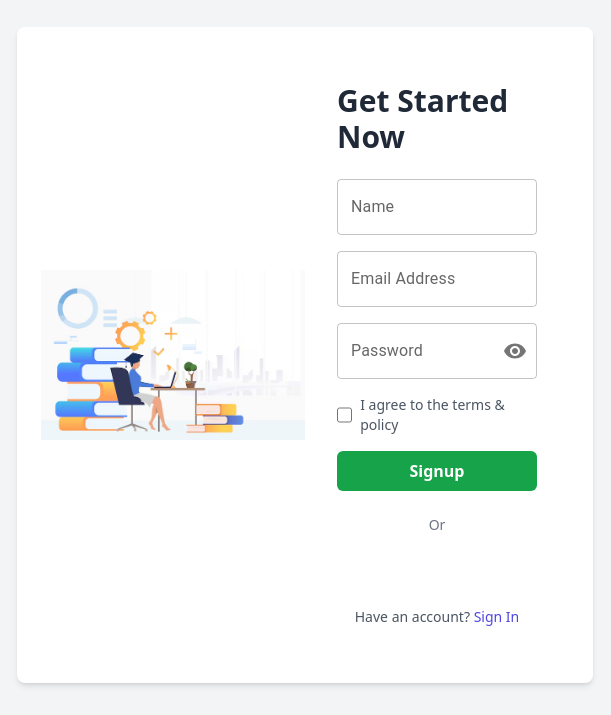
Test: SignupForm Component › Form Validation › shows validation error for empty name
Type "test@example.com" into the field labelled "Email Address" at coordinates (437, 279), box [337,251,537,307]
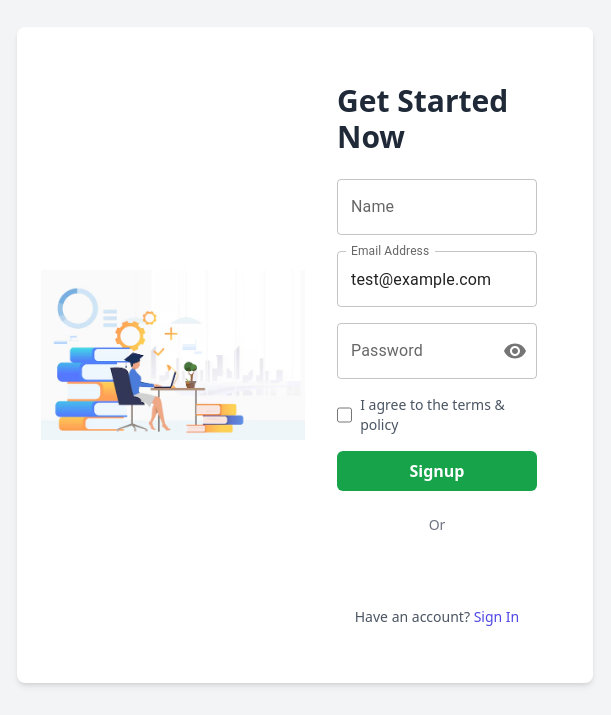
Type "password123" into the password field labelled "Password" at coordinates (412, 351), box [337,323,487,379]
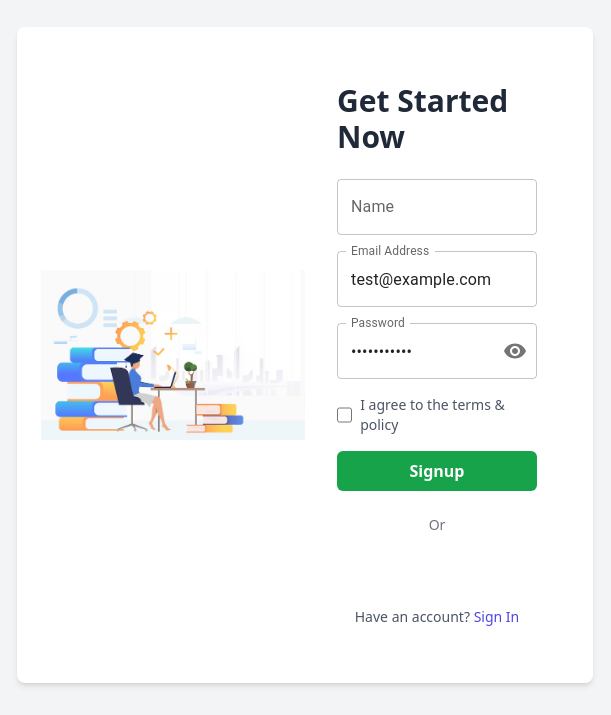
Click the checkbox at coordinates (345, 415), box [337,407,352,423]
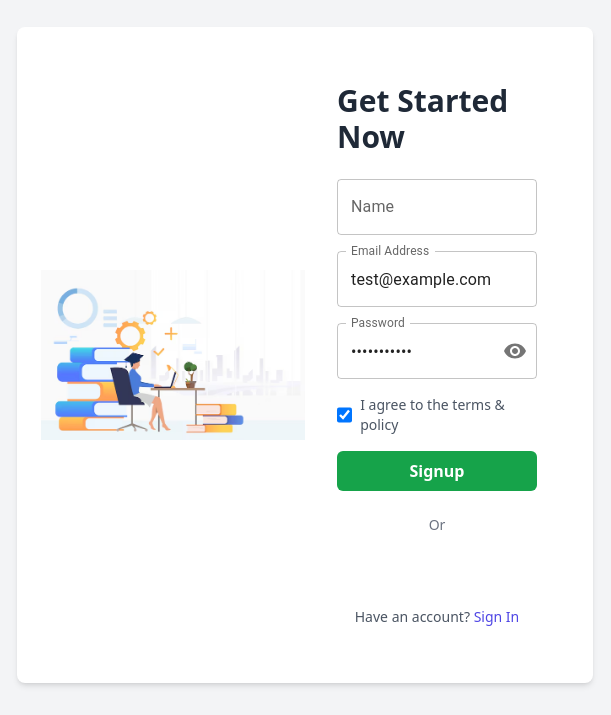
Click the button "Signup" at coordinates (437, 471), box [337,451,537,491]
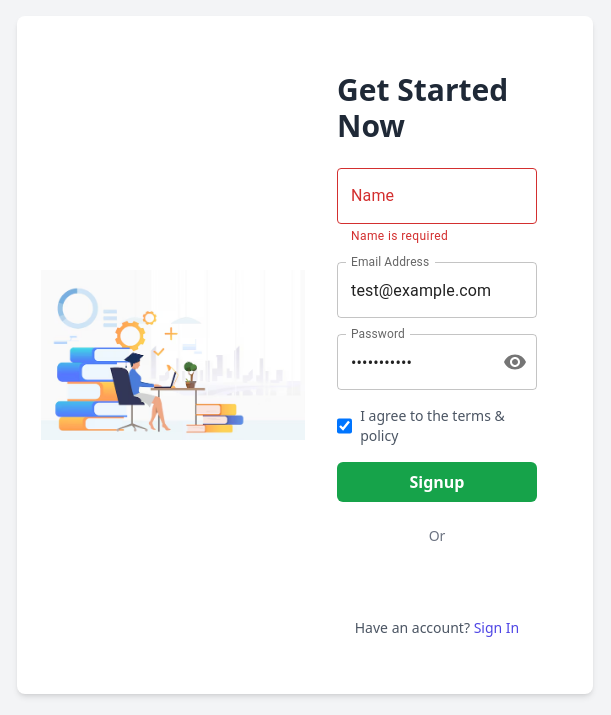
Result: the text "Name is required" is shown at [351,228,448,242]
